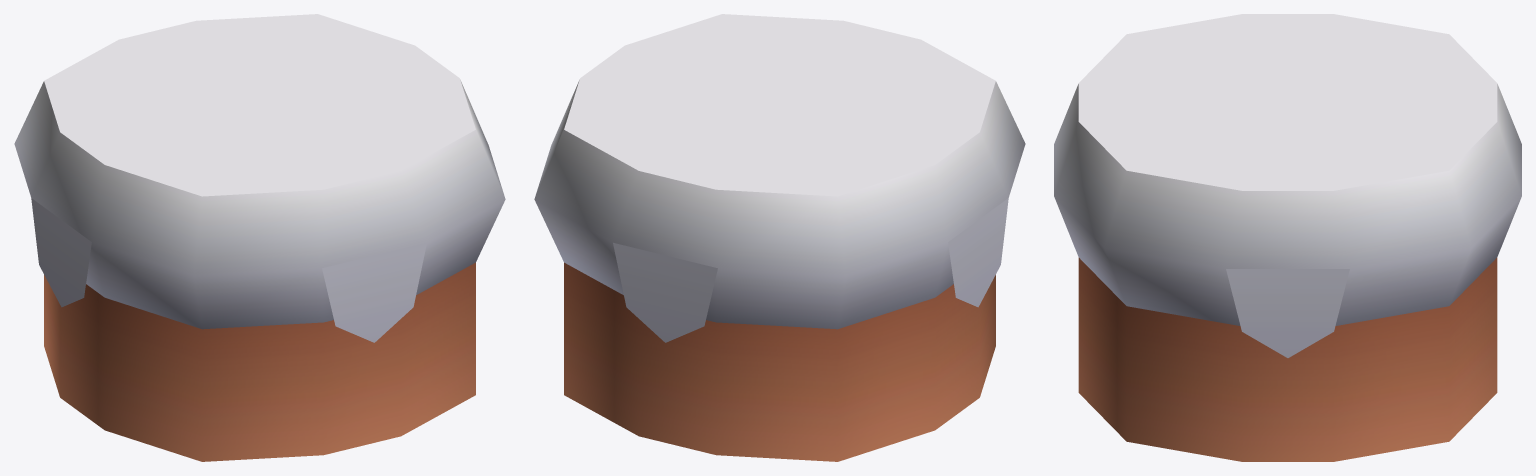
The model's file is kenney-platformer-block-snow-overhang-low-narrow.glb.
3 renders of one model, left to right at view 1: azimuth 30°, elevation 25°; view 2: azimuth 150°, elevation 25°; view 3: azimuth 270°, elevation 25°, orthographic. The views are drawn at different scales.
Parts seen in each view (by area): view 1: block-snow-overhang-low-narrow; view 2: block-snow-overhang-low-narrow; view 3: block-snow-overhang-low-narrow.
Part boxes in pixels (<box>): block-snow-overhang-low-narrow: <box>14,14,505,461</box>; block-snow-overhang-low-narrow: <box>534,14,1025,461</box>; block-snow-overhang-low-narrow: <box>1054,14,1521,461</box>.
Size of the model in its own units: 0.7821 by 0.5 by 0.7821.
Materials: 1 (1 with a texture image).
